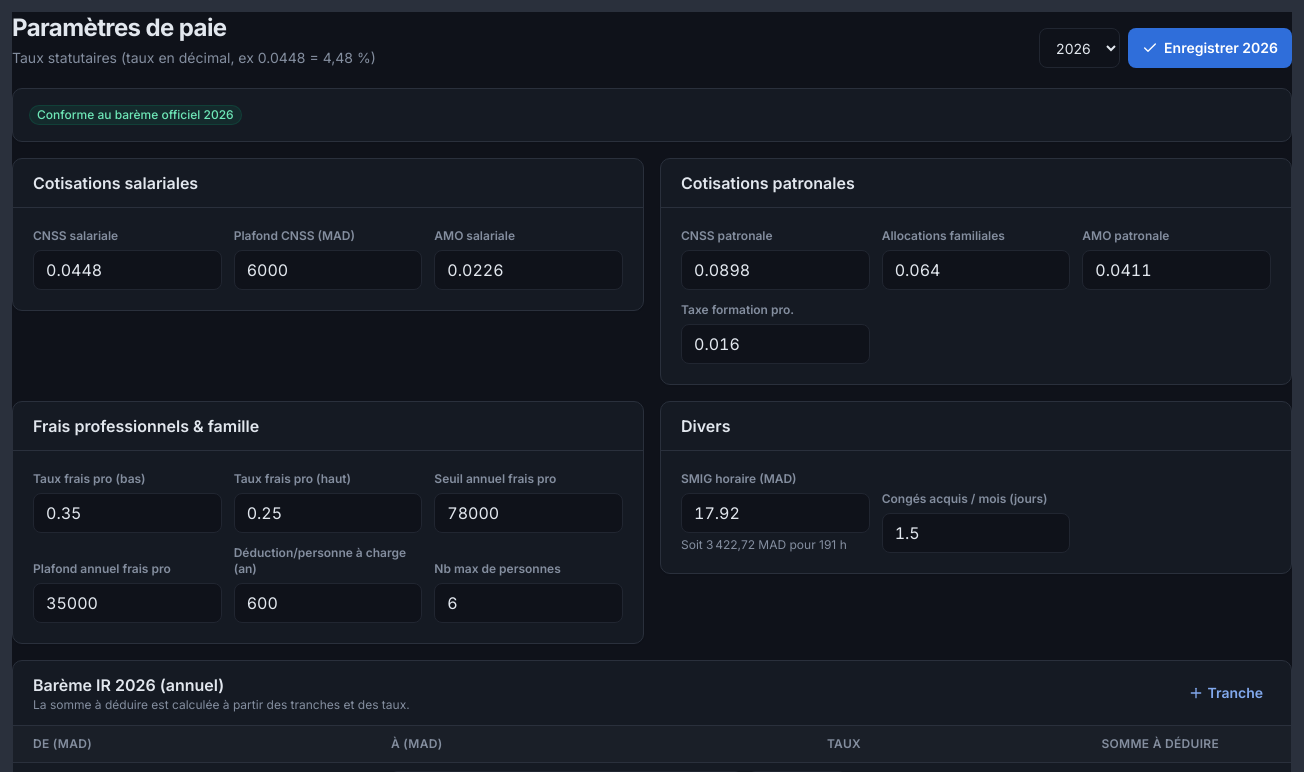
Test: payroll settings page › shows the official status, flags a change and restores the official values
The image size is (1304, 772).
Expected: the text "Conforme au barème officiel 2026" is shown, [29,105,242,125]
Replace the text in the number field labelled "Déduction/personne à charge (an)" with "500" at (328, 603), box [234,583,422,623]
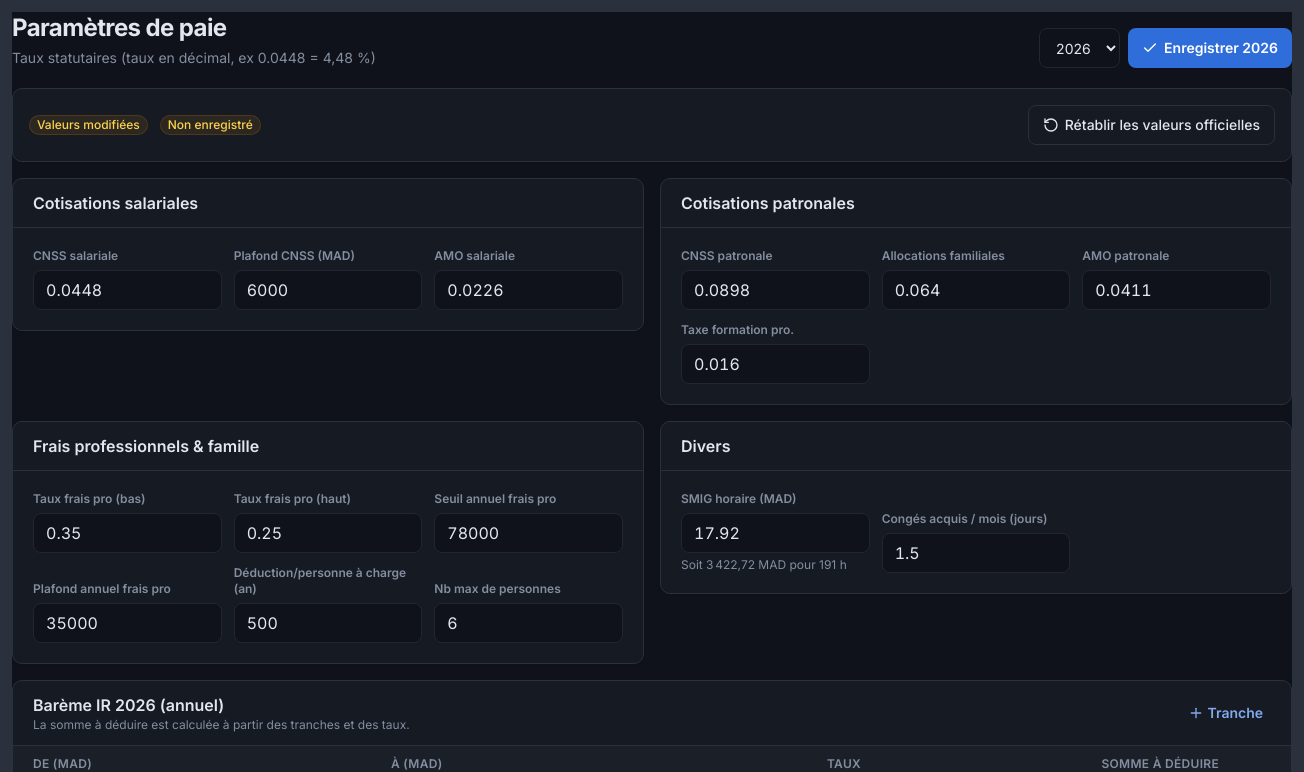
Now the text "Valeurs modifiées" is shown, box [29,115,148,135]
Click the button "Rétablir les valeurs officielles".
click(1151, 125)  # box [1028,105,1275,145]
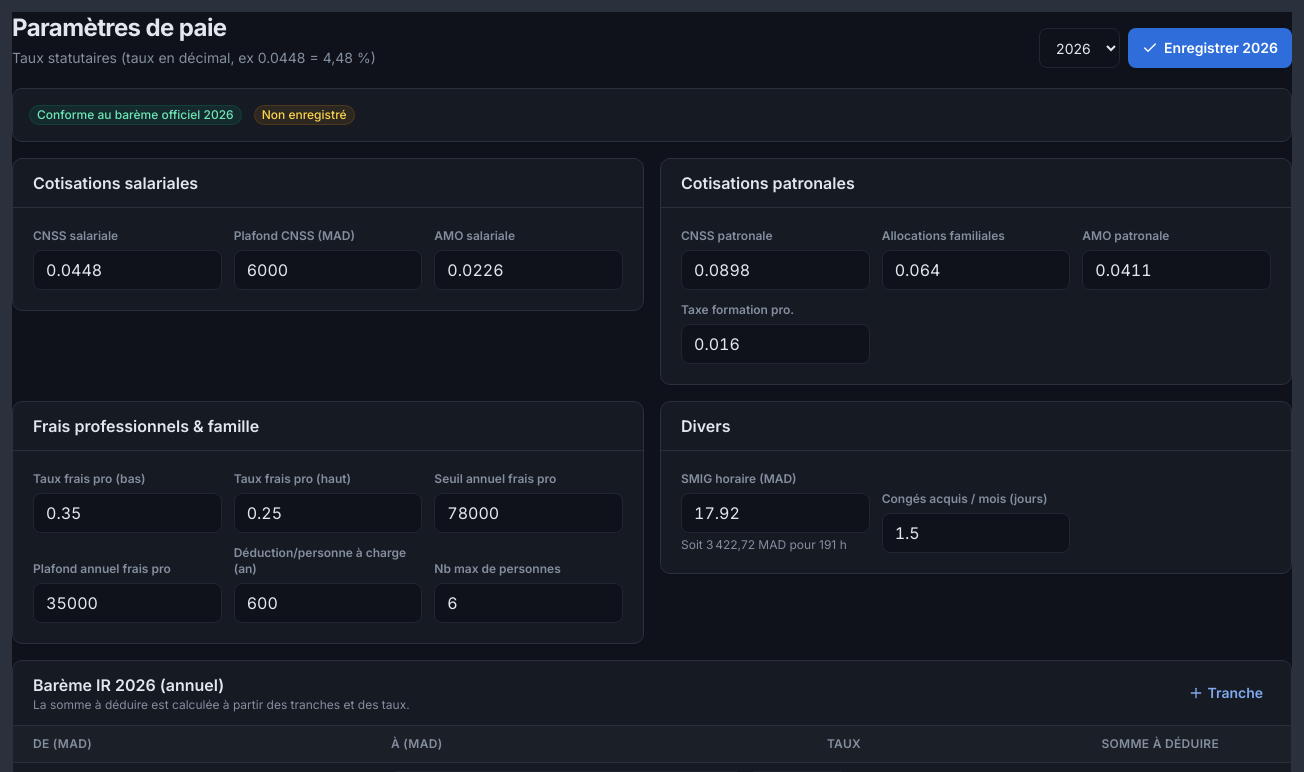
Now the text "Conforme au barème officiel 2026" is shown, box [29,105,242,125]
